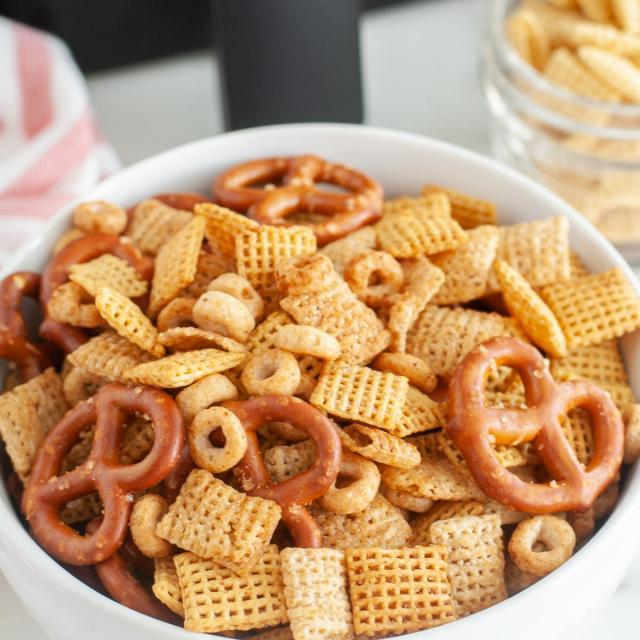Salatini: (28, 128, 620, 621)
